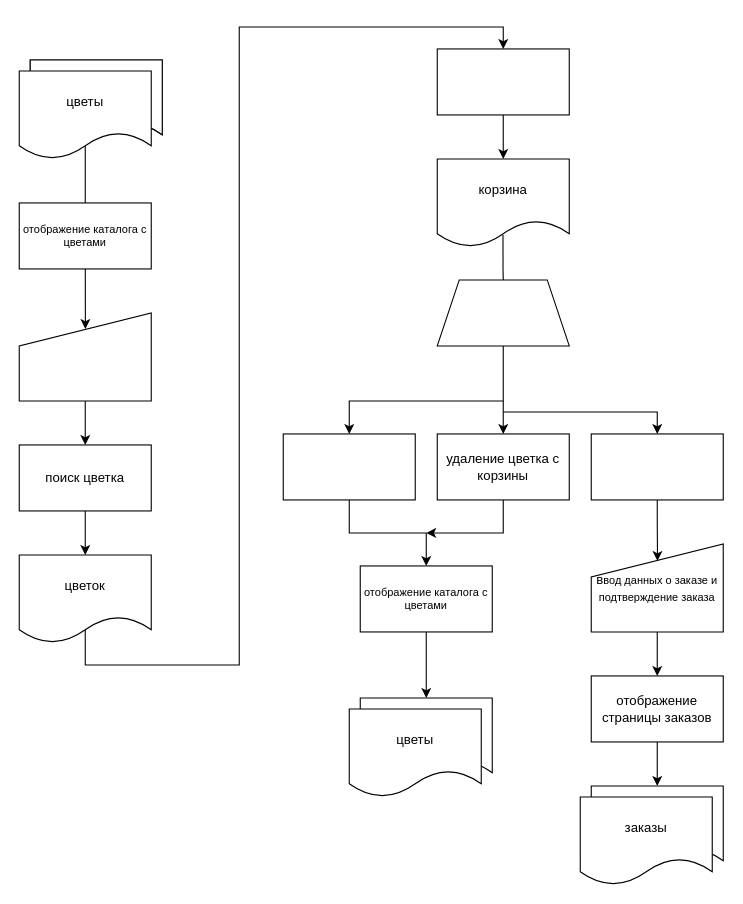
Some shapes in this 743 by 904 pixel diagram are drawn without their labels. The centre of each missing label's shape, as x and y in pixels:
ввести текст для поиска цветов: (x=84, y=356)
выбор операции: (x=502, y=312)
добавление цветка в корзину: (x=348, y=466)
переход на страницу оформления заказа: (x=656, y=466)
получение корзины: (x=502, y=81)
